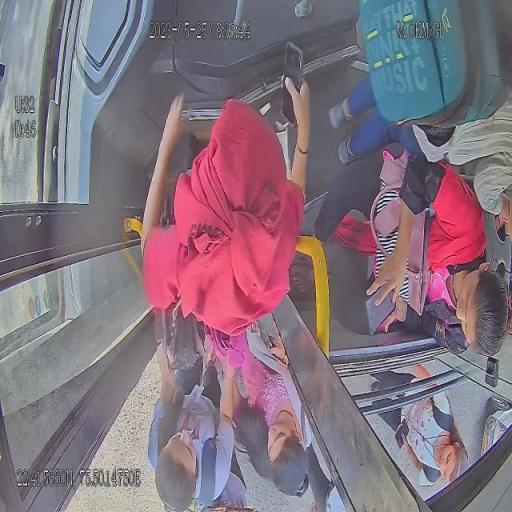persona: (140, 44, 313, 334), (312, 146, 510, 359), (328, 1, 511, 167), (146, 342, 238, 511), (368, 368, 470, 493), (240, 338, 316, 504)
